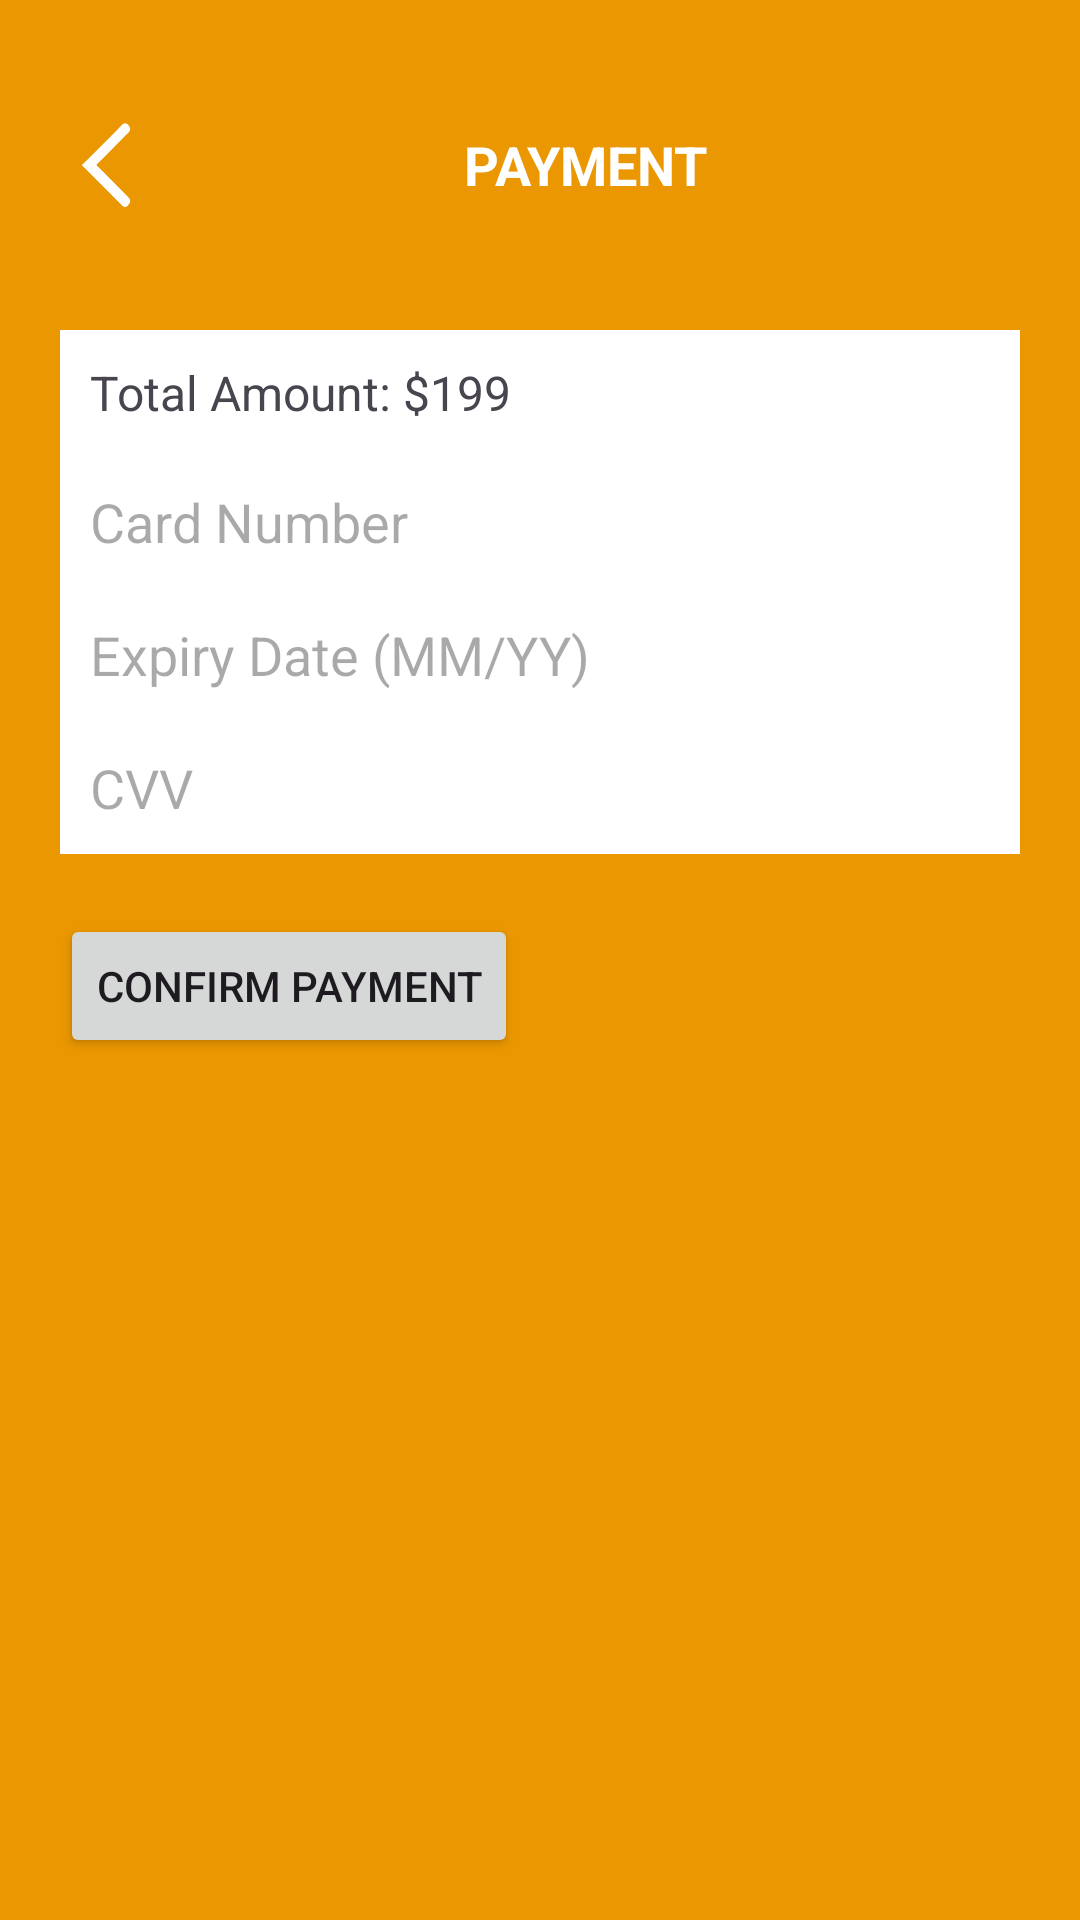

Screen size 1080*1920. Icon name, then its center in pixels as (x=x, y=y):
back: (x=106, y=165)
